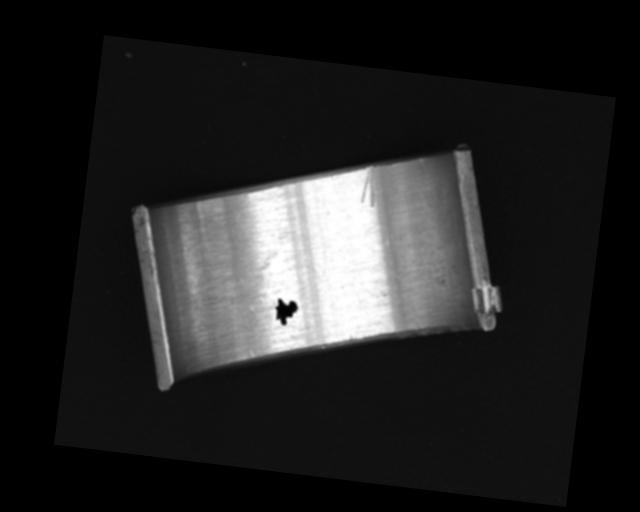blot: (271, 296, 299, 327)
nick: (359, 164, 380, 207), (418, 156, 426, 170)
